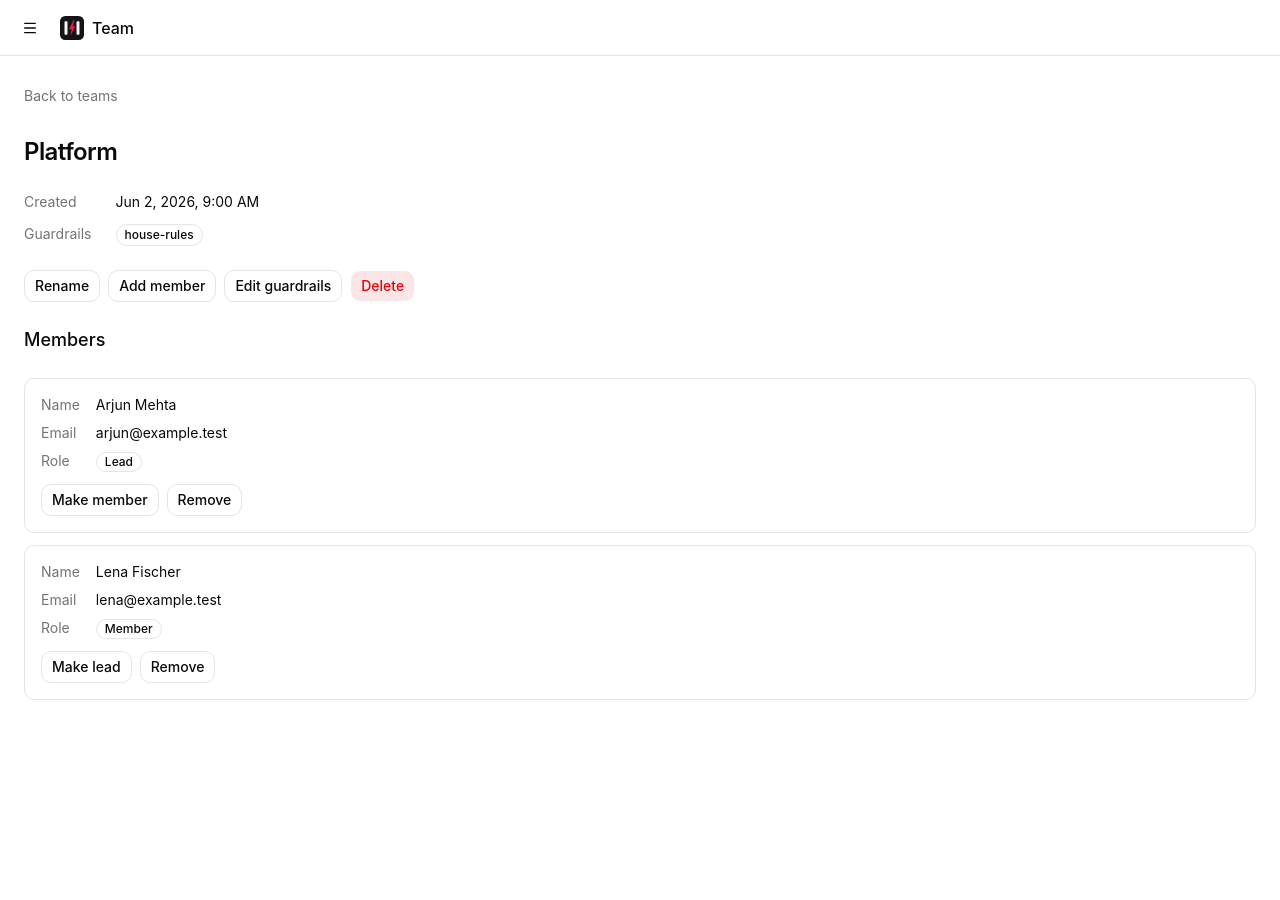
Test: the team page › the session ends while they are saved
Click the button "Edit guardrails" at (283, 286), box [224,270,342,302]
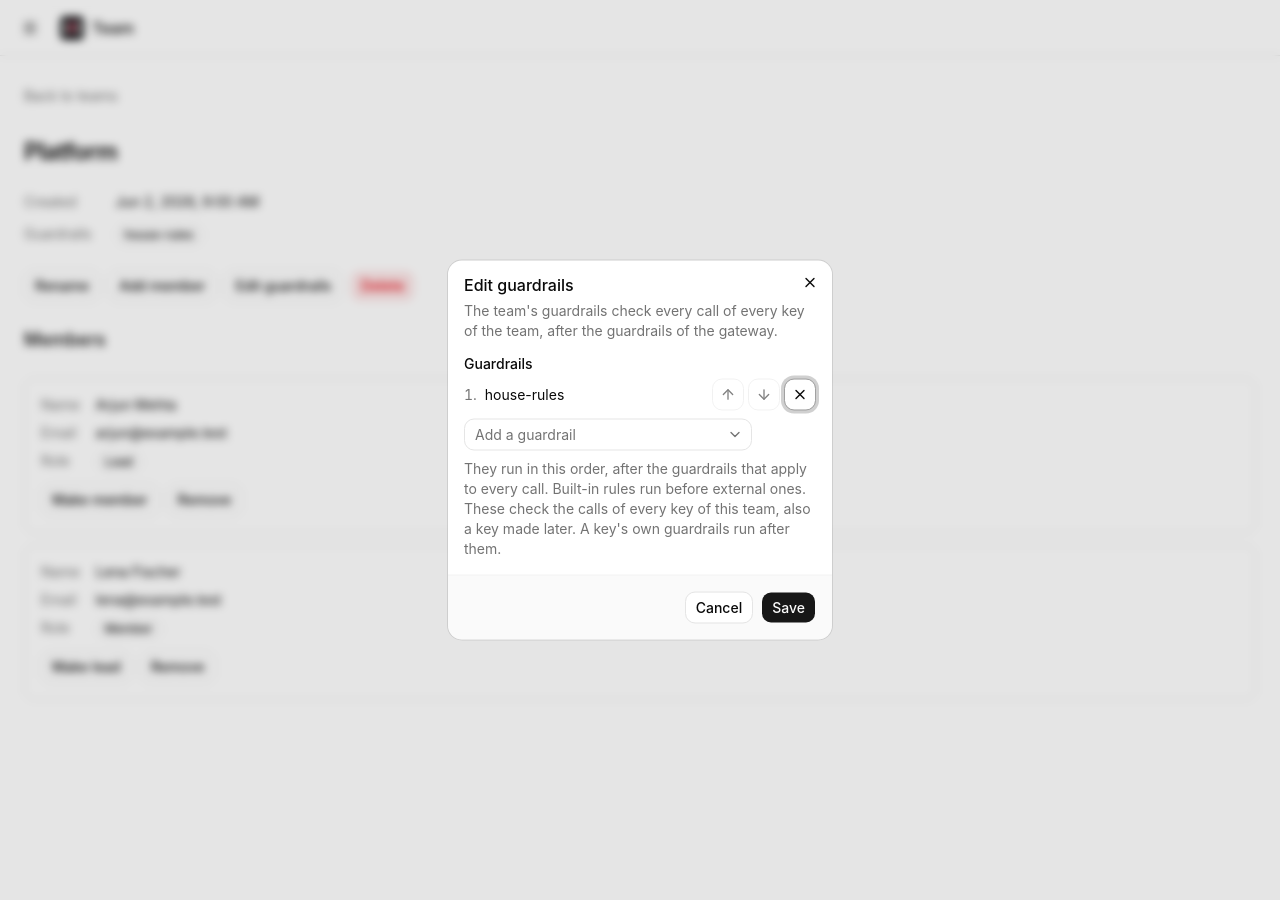
Click the button "Save" at (789, 608), box [761,592,816,624]
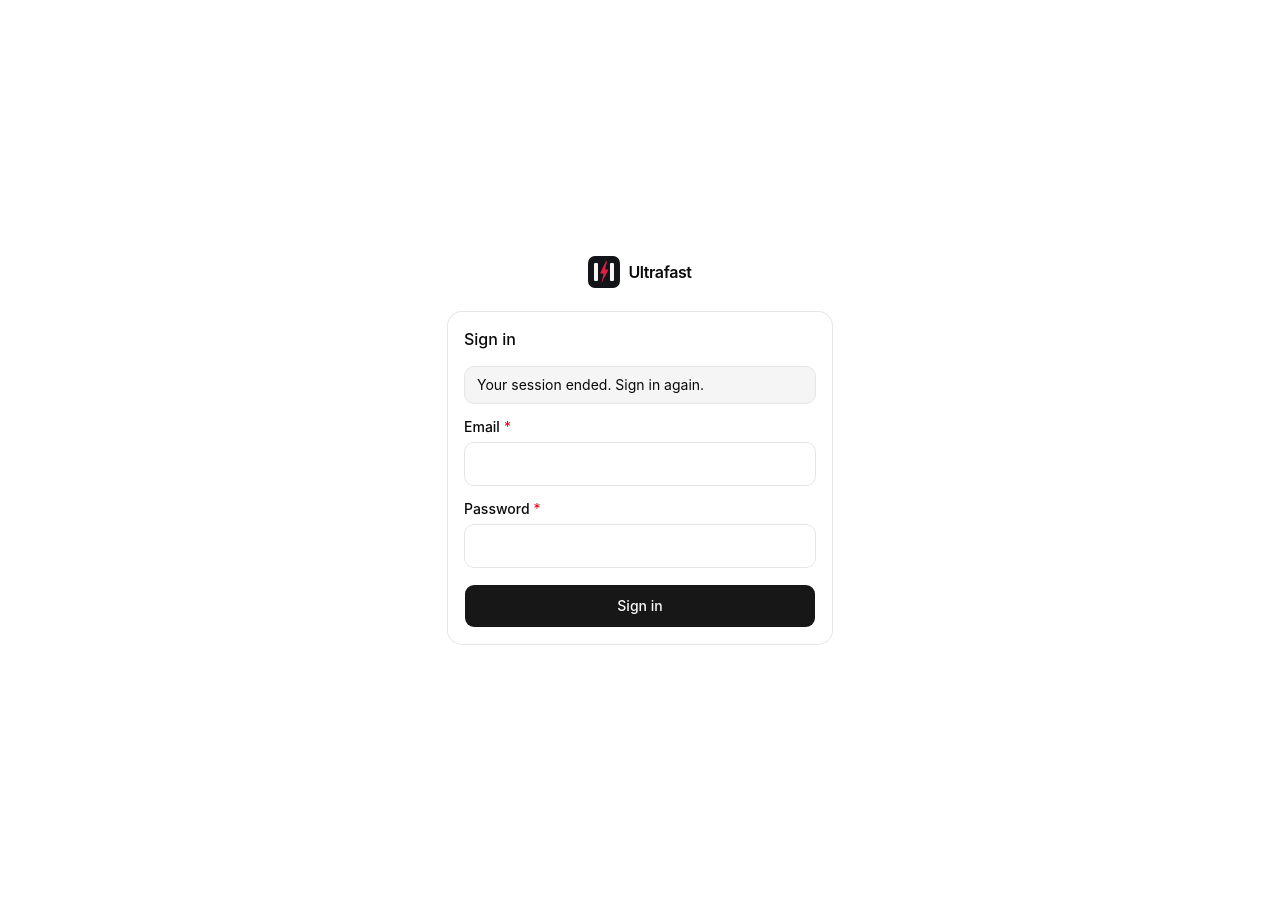
Now the button "Edit guardrails" is gone
